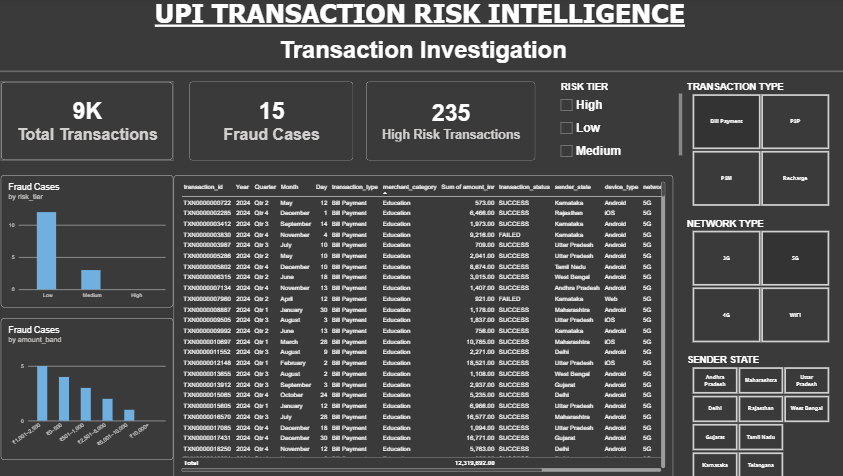

Layout of this report page (visuals, bound fields, positions):
{"tool":"powerbi","page":{"name":"Transaction Investigation","canvas":[1920,1080],"ordinal":2},"visuals":[{"type":"slicer","fields":{"Values":["upi_risk_intelligence upi_transactions.risk_tier"]},"box":[1264.5,190,280.3,177.5],"z":0},{"type":"slicer","fields":{"Values":["upi_risk_intelligence upi_transactions.transaction_type"]},"box":[1544.8,190,345.7,280.3],"z":1000},{"type":"slicer","fields":{"Values":["upi_risk_intelligence upi_transactions.network_type"]},"box":[1544.8,495.2,345.7,280.3],"z":2000},{"type":"slicer","fields":{"Values":["upi_risk_intelligence upi_transactions.device_type"]},"box":[579.3,829.7,280,210],"z":3000},{"type":"slicer","fields":{"Values":["upi_risk_intelligence upi_transactions.sender_state"]},"box":[1544.8,800.4,345.7,280.3],"z":4000},{"type":"tableEx","fields":{"Values":["upi_risk_intelligence upi_transactions.transaction_id","upi_risk_intelligence upi_transactions.transaction_timestamp.Variation.Date Hierarchy.Year","upi_risk_intelligence upi_transactions.transaction_timestamp.Variation.Date Hierarchy.Quarter","upi_risk_intelligence upi_transactions.transaction_timestamp.Variation.Date Hierarchy.Month","upi_risk_intelligence upi_transactions.transaction_timestamp.Variation.Date Hierarchy.Day","upi_risk_intelligence upi_transactions.transaction_type","upi_risk_intelligence upi_transactions.merchant_category","Sum(upi_risk_intelligence upi_transactions.amount_inr)","upi_risk_intelligence upi_transactions.transaction_status","upi_risk_intelligence upi_transactions.sender_state","upi_risk_intelligence upi_transactions.device_type","upi_risk_intelligence upi_transactions.network_type"]},"box":[404.9,398.6,1118.1,682.1],"z":5000},{"type":"cardVisual","fields":{"Data":["upi_risk_intelligence upi_transactions.Total Transactions"]},"box":[18.7,190,386.2,177.5],"z":6000},{"type":"cardVisual","fields":{"Data":["upi_risk_intelligence upi_transactions.Fraud Cases"]},"box":[439.1,190,367.5,177.5],"z":7000},{"type":"cardVisual","fields":{"Data":["upi_risk_intelligence upi_transactions.High Risk Transactions"]},"box":[834.7,190,380,177.5],"z":8000},{"type":"columnChart","fields":{"Category":["upi_risk_intelligence upi_transactions.amount_band"],"Y":["upi_risk_intelligence upi_transactions.Fraud Cases"]},"box":[18.7,719.4,386.2,317.7],"z":9000},{"type":"columnChart","fields":{"Category":["upi_risk_intelligence upi_transactions.risk_tier"],"Y":["upi_risk_intelligence upi_transactions.Fraud Cases"]},"box":[18.7,398.6,386.2,295.9],"z":10000},{"type":"textbox","box":[0,0,1921.5,165.9],"z":12000}]}

Visuals, with their boxes in screenshot pixels (x1, y1, x2, y2), scaled from the page's 1920x1080 canvas onto the 843x476 screenshot:
slicer - upi_risk_intelligence upi_transactions.risk_tier: locate(555, 84, 678, 162)
slicer - upi_risk_intelligence upi_transactions.transaction_type: locate(678, 84, 830, 207)
slicer - upi_risk_intelligence upi_transactions.network_type: locate(678, 218, 830, 342)
slicer - upi_risk_intelligence upi_transactions.device_type: locate(254, 366, 377, 458)
slicer - upi_risk_intelligence upi_transactions.sender_state: locate(678, 353, 830, 475)
tableEx - upi_risk_intelligence upi_transactions.transaction_id x upi_risk_intelligence upi_transactions.transaction_timestamp.Variation.Date Hierarchy.Year: locate(178, 176, 669, 475)
cardVisual - upi_risk_intelligence upi_transactions.Total Transactions: locate(8, 84, 178, 162)
cardVisual - upi_risk_intelligence upi_transactions.Fraud Cases: locate(193, 84, 354, 162)
cardVisual - upi_risk_intelligence upi_transactions.High Risk Transactions: locate(366, 84, 533, 162)
columnChart - upi_risk_intelligence upi_transactions.amount_band x upi_risk_intelligence upi_transactions.Fraud Cases: locate(8, 317, 178, 457)
columnChart - upi_risk_intelligence upi_transactions.risk_tier x upi_risk_intelligence upi_transactions.Fraud Cases: locate(8, 176, 178, 306)
textbox: locate(0, 0, 842, 73)
